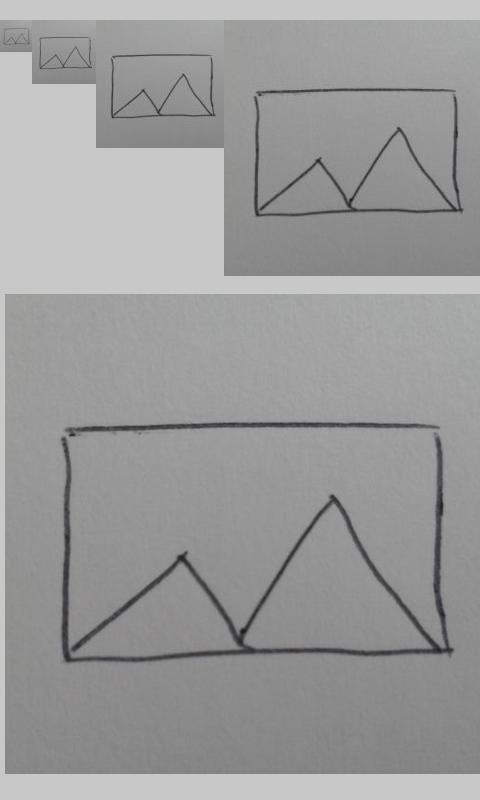image_view: (58, 417, 451, 667), (254, 87, 461, 216), (109, 52, 216, 120), (38, 36, 92, 70), (3, 27, 30, 46)
